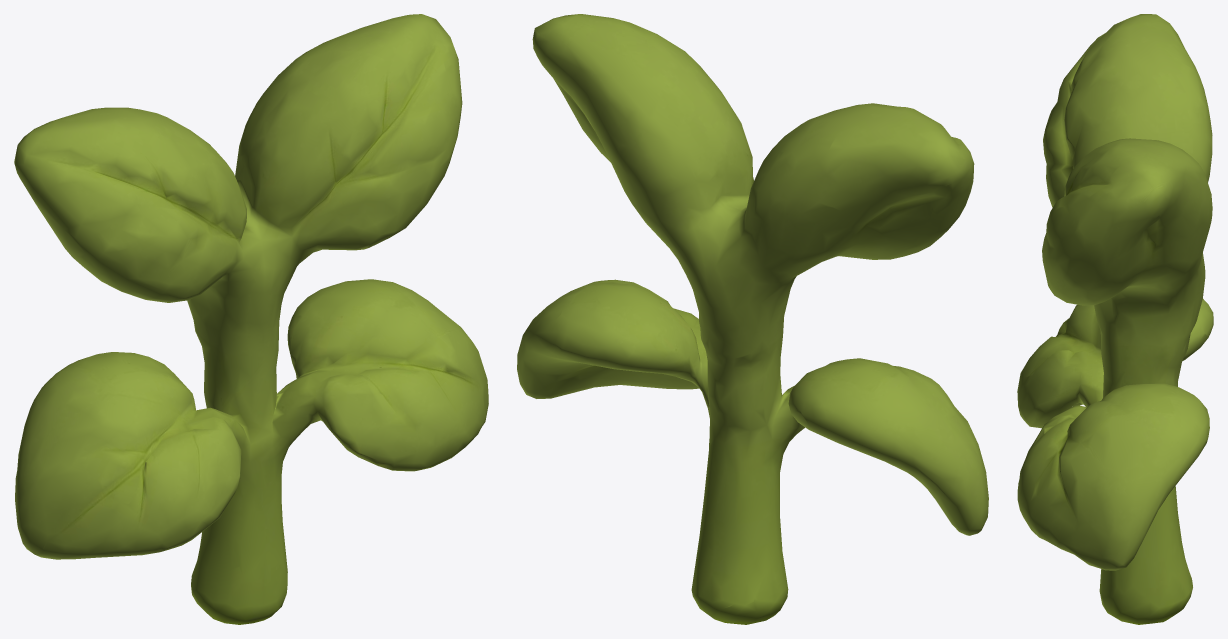
The model's file is sunflower_s2.glb.
3 renders of one model, left to right at view 1: azimuth 30°, elevation 25°; view 2: azimuth 150°, elevation 25°; view 3: azimuth 270°, elevation 25°, orthographic. The views are drawn at different scales.
Parts seen in each view (by area): view 1: tripo_node_f60481b2-3555-464a-b45a-920598c14207; view 2: tripo_node_f60481b2-3555-464a-b45a-920598c14207; view 3: tripo_node_f60481b2-3555-464a-b45a-920598c14207.
Boxes of the visible parts, bbox=[...] form: tripo_node_f60481b2-3555-464a-b45a-920598c14207: bbox=[14, 14, 488, 624]; tripo_node_f60481b2-3555-464a-b45a-920598c14207: bbox=[517, 14, 988, 624]; tripo_node_f60481b2-3555-464a-b45a-920598c14207: bbox=[1017, 14, 1213, 624].
Bounding box in the file's own units: 0.8744 × 1 × 0.3332.
1 material, 1 textured.
